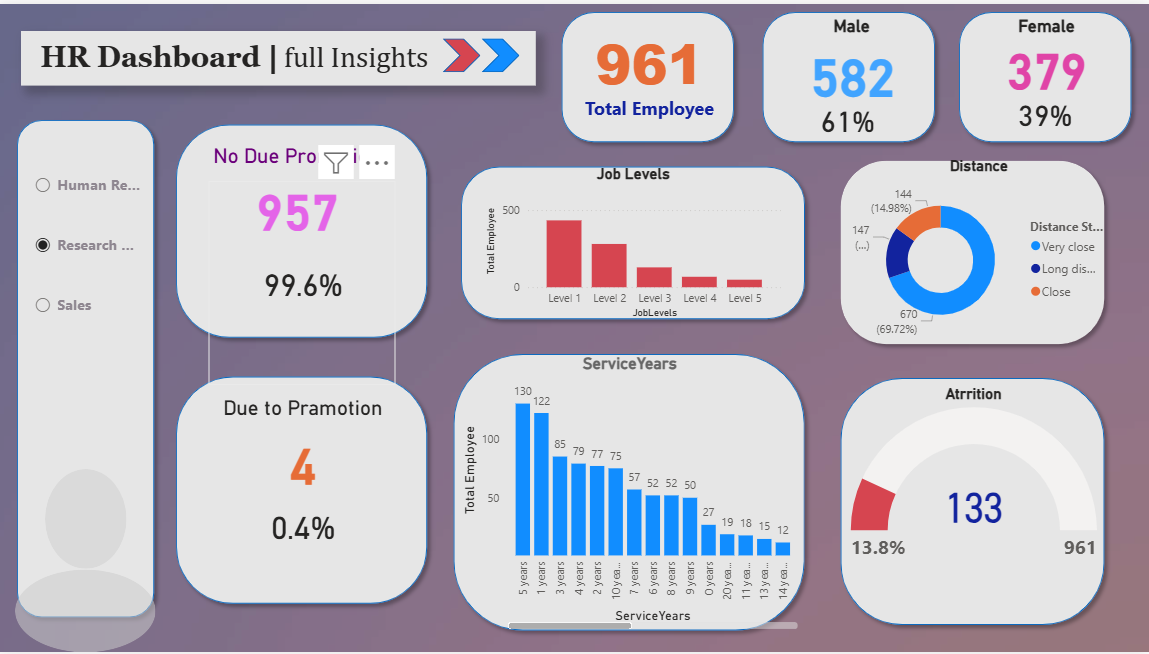

Layout of this report page (visuals, bound fields, positions):
{"tool":"powerbi","page":{"name":"Page 1","canvas":[1280,720],"ordinal":0},"visuals":[{"type":"shape","box":[12.5,120.4,170.4,570.5],"z":0},{"type":"textbox","box":[26.6,29.7,572.1,61],"z":1000},{"type":"shape","box":[495.5,39.1,42.2,37.5],"z":2000},{"type":"shape","box":[537.7,39.1,42.2,37.5],"z":3000},{"type":"shape","box":[618.9,0,209.4,162.6],"z":4000},{"type":"shape","box":[840.9,0,209.4,162.6],"z":5000},{"type":"shape","box":[1059.7,0,209.4,162.6],"z":6000},{"type":"card","fields":{"Values":["All Measures.Total Employee"]},"box":[631.4,18.8,186,114.1],"z":7000},{"type":"card","title":"Male","fields":{"Values":["All Measures.Male"]},"box":[894,12.5,112.5,100],"z":8000},{"type":"card","title":"Female","fields":{"Values":["All Measures.Female"]},"box":[1108.2,12.5,115.7,87.5],"z":9000},{"type":"card","fields":{"Values":["All Measures.% Male"]},"box":[906.5,106.3,76.6,42.2],"z":10000},{"type":"card","fields":{"Values":["All Measures.% Female"]},"box":[1120.7,86,89.1,68.8],"z":11000},{"type":"shape","box":[190.7,125,297,254.8],"z":12000},{"type":"shape","box":[190.7,404.8,297,270.4],"z":13000},{"type":"card","title":"No Due Promotion","fields":{"Values":["All Measures.No Due pramotion"]},"box":[228.2,154.7,209.4,112.5],"z":14000},{"type":"card","title":"Due to Pramotion","fields":{"Values":["All Measures.Due for pramotion"]},"box":[234.4,434.5,209.4,118.8],"z":15000},{"type":"card","fields":{"Values":["All Measures.% due to pramotion"]},"box":[234.4,464.2,209.4,226.6],"z":16000},{"type":"card","fields":{"Values":["All Measures.% no due promotion"]},"box":[234.4,196.9,209.4,226.6],"z":17000},{"type":"shape","box":[498.6,379.8,407.9,325.1],"z":18000},{"type":"columnChart","title":" ServiceYears","fields":{"Category":["HR_Project_Power BI.ServiceYears"],"Y":["All Measures.Total Employee"]},"box":[511.1,387.6,382.9,311],"z":19000},{"type":"shape","box":[506.4,171.9,400.1,187.6],"z":20000},{"type":"clusteredColumnChart","title":"Job Levels","fields":{"Y":["All Measures.Total Employee"],"Category":["HR_Project_Power BI.JobLevels"]},"box":[537.7,178.2,337.6,175.1],"z":21000},{"type":"shape","box":[928.4,165.7,311,221.9],"z":22000},{"type":"donutChart","title":" Distance ","fields":{"Category":["HR_Project_Power BI.Distance Status"],"Y":["All Measures.Total Employee"]},"box":[944,170.4,295.4,209.4],"z":23000},{"type":"shape","box":[928.4,406.4,311,292.3],"z":24000},{"type":"gauge","title":" Atrrition ","fields":{"Y":["All Measures.total attrition"],"MinValue":["All Measures.Atrrition rate"],"MaxValue":["All Measures.Total Employee"]},"box":[934.7,423.6,300.1,204.8],"z":25000},{"type":"slicer","fields":{"Values":["HR_Project_Power BI.Department"]},"box":[29.7,161,137.5,411.1],"z":26000},{"type":"shape","box":[53.1,517.3,90.7,111],"z":27000},{"type":"shape","box":[20.3,628.3,156.3,92.2],"z":28000}]}

Visuals, with their boxes in screenshot pixels (x1, y1, x2, y2), scaled from the page's 1280x720 canvas onto the 1149x654 screenshot:
shape: l=11, t=109, r=164, b=628
textbox: l=24, t=27, r=537, b=82
shape: l=445, t=36, r=483, b=70
shape: l=483, t=36, r=521, b=70
shape: l=556, t=0, r=744, b=148
shape: l=755, t=0, r=943, b=148
shape: l=951, t=0, r=1139, b=148
card - All Measures.Total Employee: l=567, t=17, r=734, b=121
"Male" card: l=803, t=11, r=903, b=102
"Female" card: l=995, t=11, r=1099, b=91
card - All Measures.% Male: l=814, t=97, r=882, b=135
card - All Measures.% Female: l=1006, t=78, r=1086, b=141
shape: l=171, t=114, r=438, b=345
shape: l=171, t=368, r=438, b=613
"No Due Promotion" card: l=205, t=141, r=393, b=243
"Due to Pramotion" card: l=210, t=395, r=398, b=503
card - All Measures.% due to pramotion: l=210, t=422, r=398, b=627
card - All Measures.% no due promotion: l=210, t=179, r=398, b=385
shape: l=448, t=345, r=814, b=640
" ServiceYears" columnChart: l=459, t=352, r=803, b=635
shape: l=455, t=156, r=814, b=327
"Job Levels" clusteredColumnChart: l=483, t=162, r=786, b=321
shape: l=833, t=151, r=1113, b=352
" Distance " donutChart: l=847, t=155, r=1113, b=345
shape: l=833, t=369, r=1113, b=635
" Atrrition " gauge: l=839, t=385, r=1108, b=571
slicer - HR_Project_Power BI.Department: l=27, t=146, r=150, b=520
shape: l=48, t=470, r=129, b=571
shape: l=18, t=571, r=159, b=653
